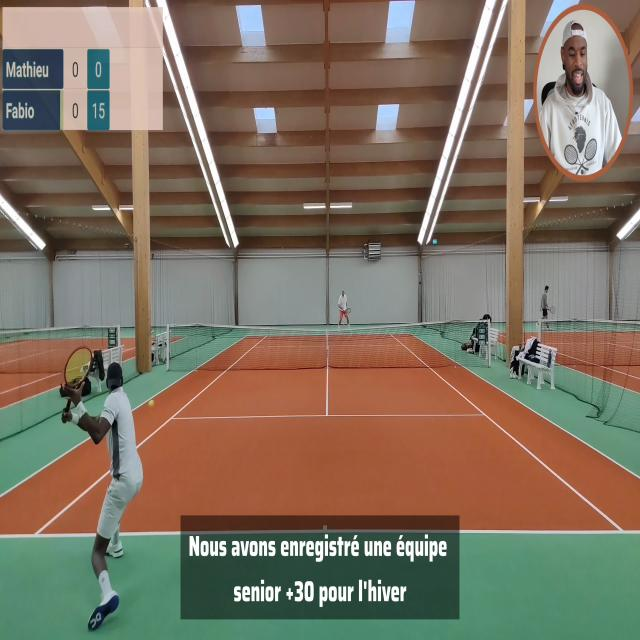ball: (147, 398, 155, 409)
